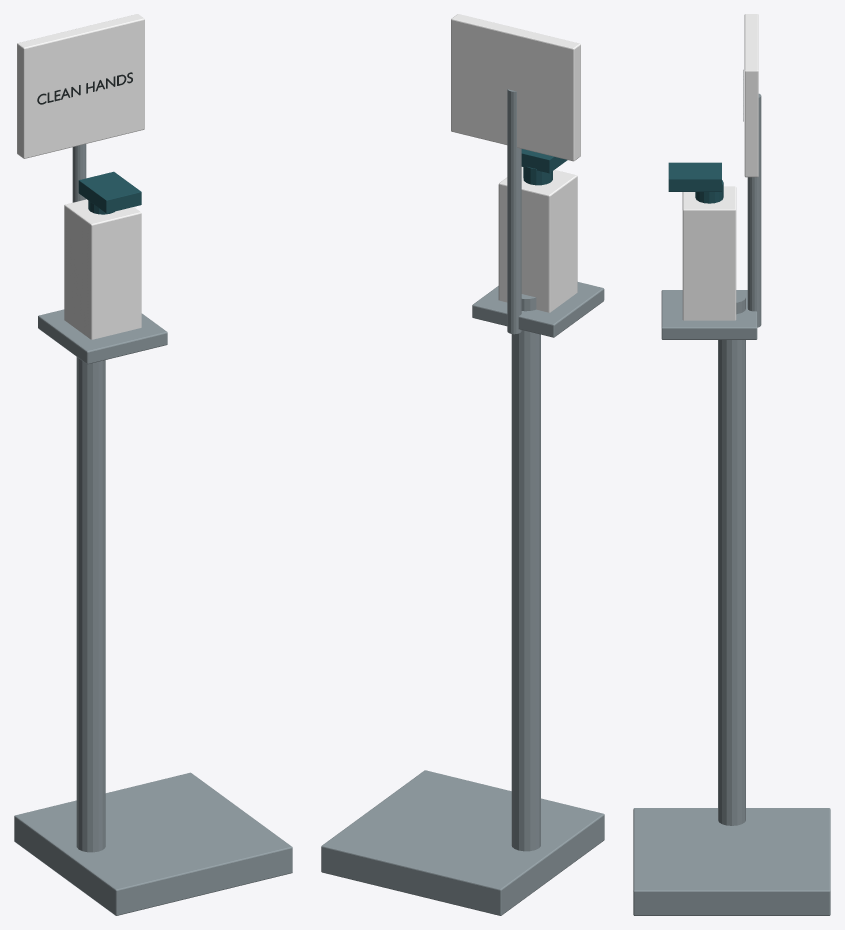
Rendered from source-edit.glb.
3 views of the same model, side by side, from view 1: azimuth 30°, elevation 25°; view 2: azimuth 150°, elevation 25°; view 3: azimuth 270°, elevation 25° (orthographic). The views are drawn at different scales.
Visible parts, largest first — view 1: Base, Sign, Stem, Bottle, Bottle_Shelf, Pump_Head, Sign_Support; view 2: Base, Stem, Sign, Bottle, Sign_Support, Bottle_Shelf, Pump_Head; view 3: Base, Stem, Bottle, Bottle_Shelf, Sign, Sign_Support, Pump_Head.
Boxes of the visible parts, x1,y1,x2,y2 form: Base: [14, 772, 292, 915]; Sign: [17, 14, 144, 158]; Stem: [76, 357, 105, 852]; Bottle: [64, 199, 141, 339]; Bottle_Shelf: [38, 309, 167, 364]; Pump_Head: [78, 171, 141, 213]; Sign_Support: [72, 144, 86, 202]; Base: [321, 770, 604, 915]; Stem: [511, 294, 540, 851]; Sign: [451, 14, 580, 161]; Bottle: [498, 167, 577, 312]; Sign_Support: [507, 89, 521, 334]; Bottle_Shelf: [472, 282, 604, 337]; Pump_Head: [521, 149, 567, 173]; Base: [633, 808, 830, 915]; Stem: [718, 291, 745, 825]; Bottle: [682, 186, 736, 320]; Bottle_Shelf: [661, 290, 757, 339]; Sign: [744, 14, 758, 177]; Sign_Support: [747, 93, 761, 327]; Pump_Head: [668, 162, 721, 191].
Bounding box in the file's own units: 0.418 × 1.58 × 0.35.
